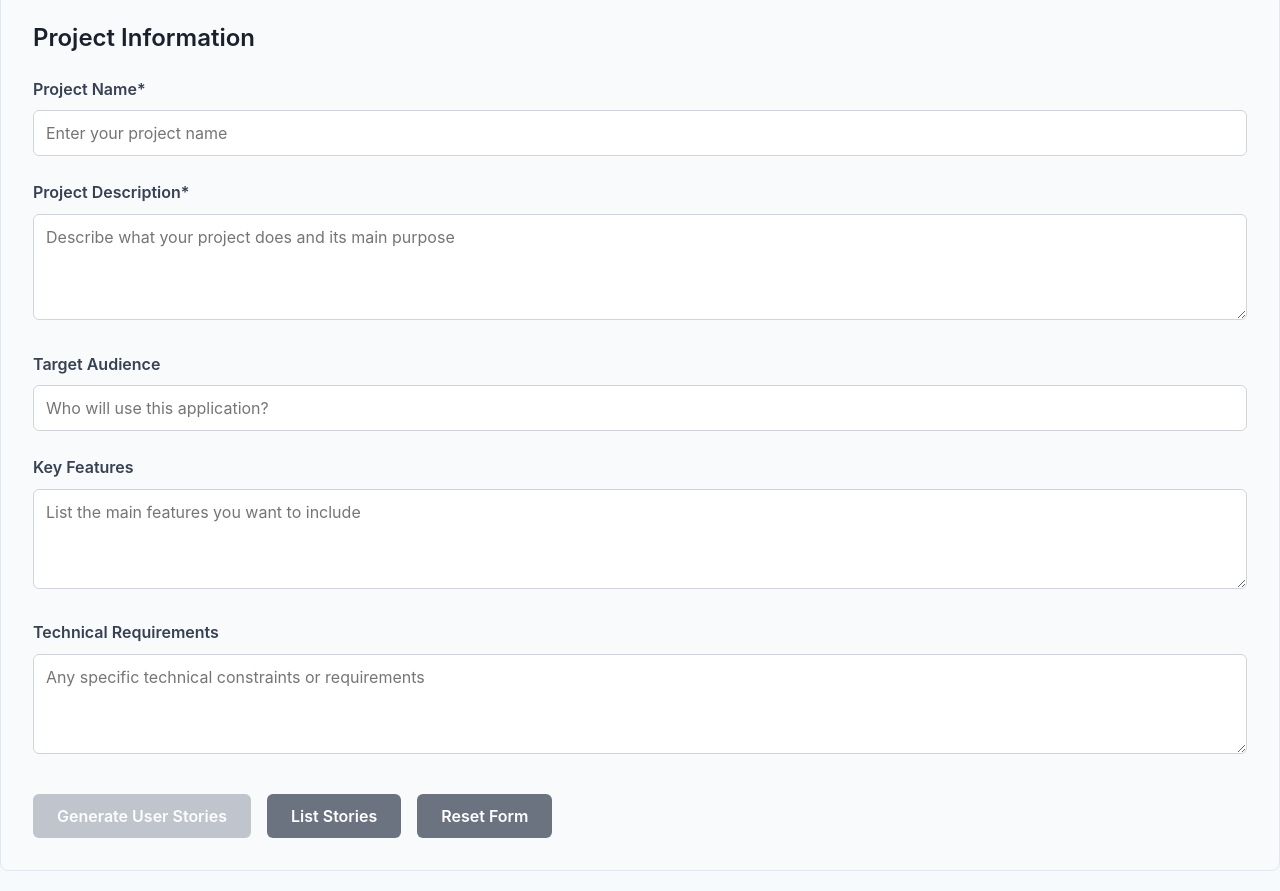
StoryGenerator Component › Form Submission - Error Cases › displays error message when API returns 422 validation error
The width and height of the screenshot is (1280, 891).
Type "Test Project" into the field labelled "Project Name*" at (640, 133), box left=33, top=110, right=1247, bottom=156
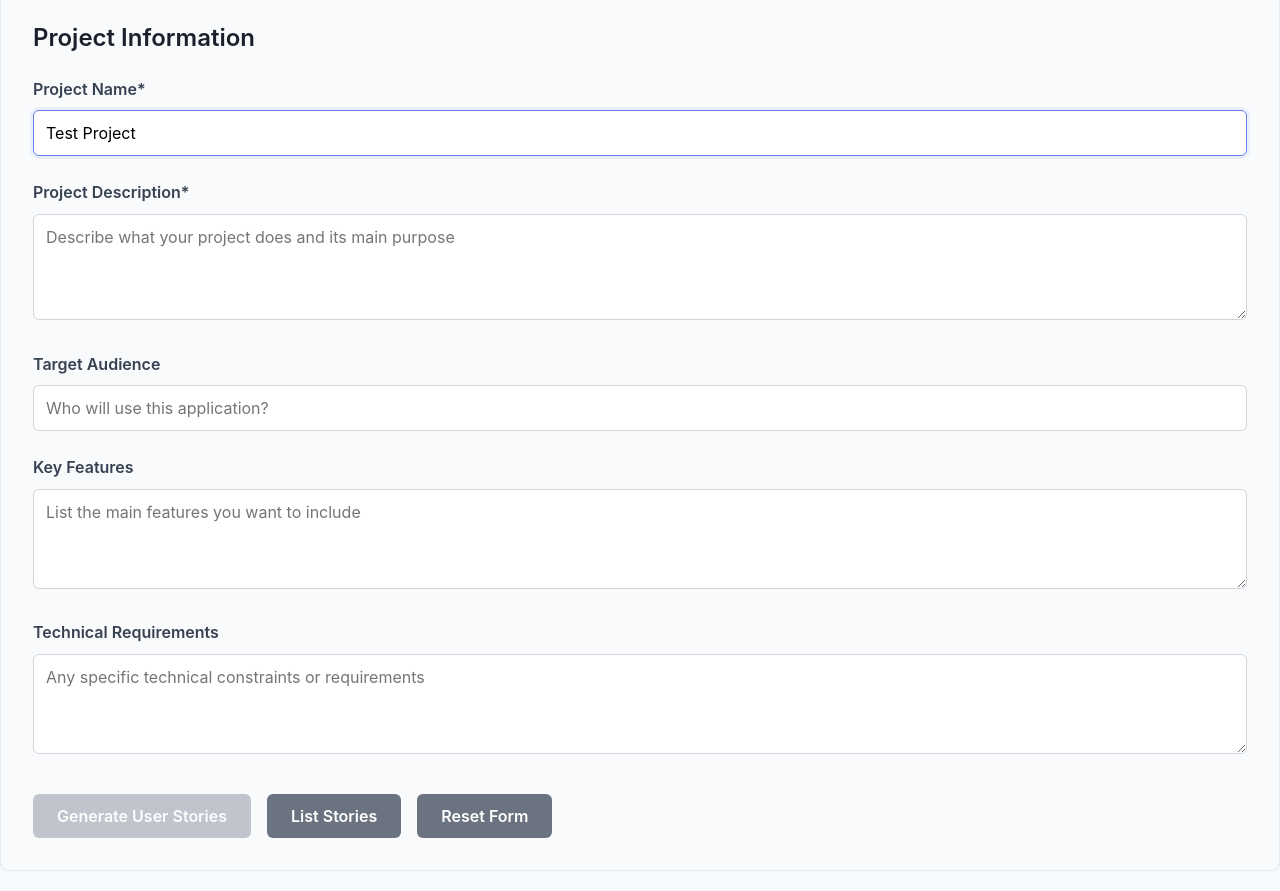
Type "A comprehensive test project for story generation" into the text box labelled "Project Description*" at (640, 267), box left=33, top=214, right=1247, bottom=320
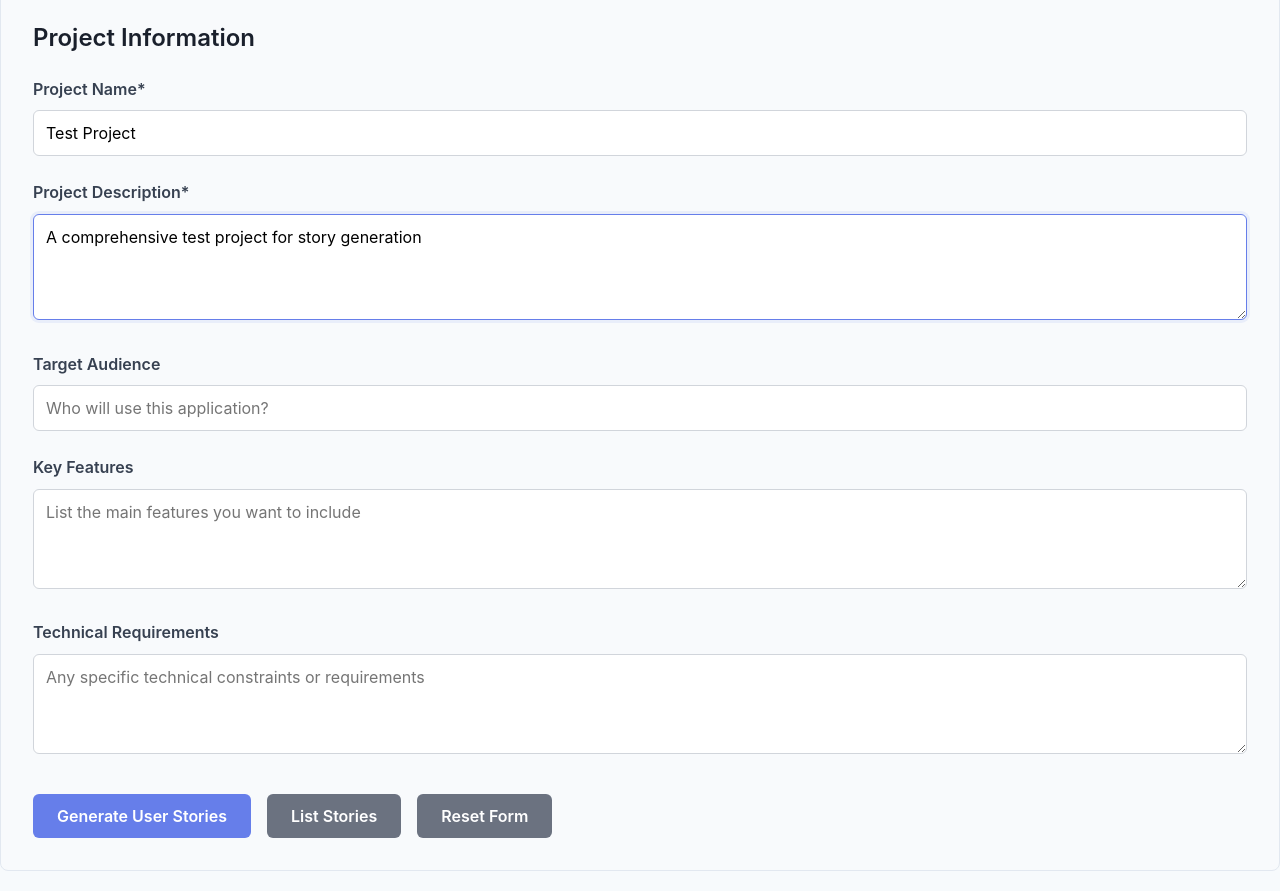
Type "Developers and QA engineers" into the field with id "targetAudience" at (640, 408), box left=33, top=385, right=1247, bottom=431
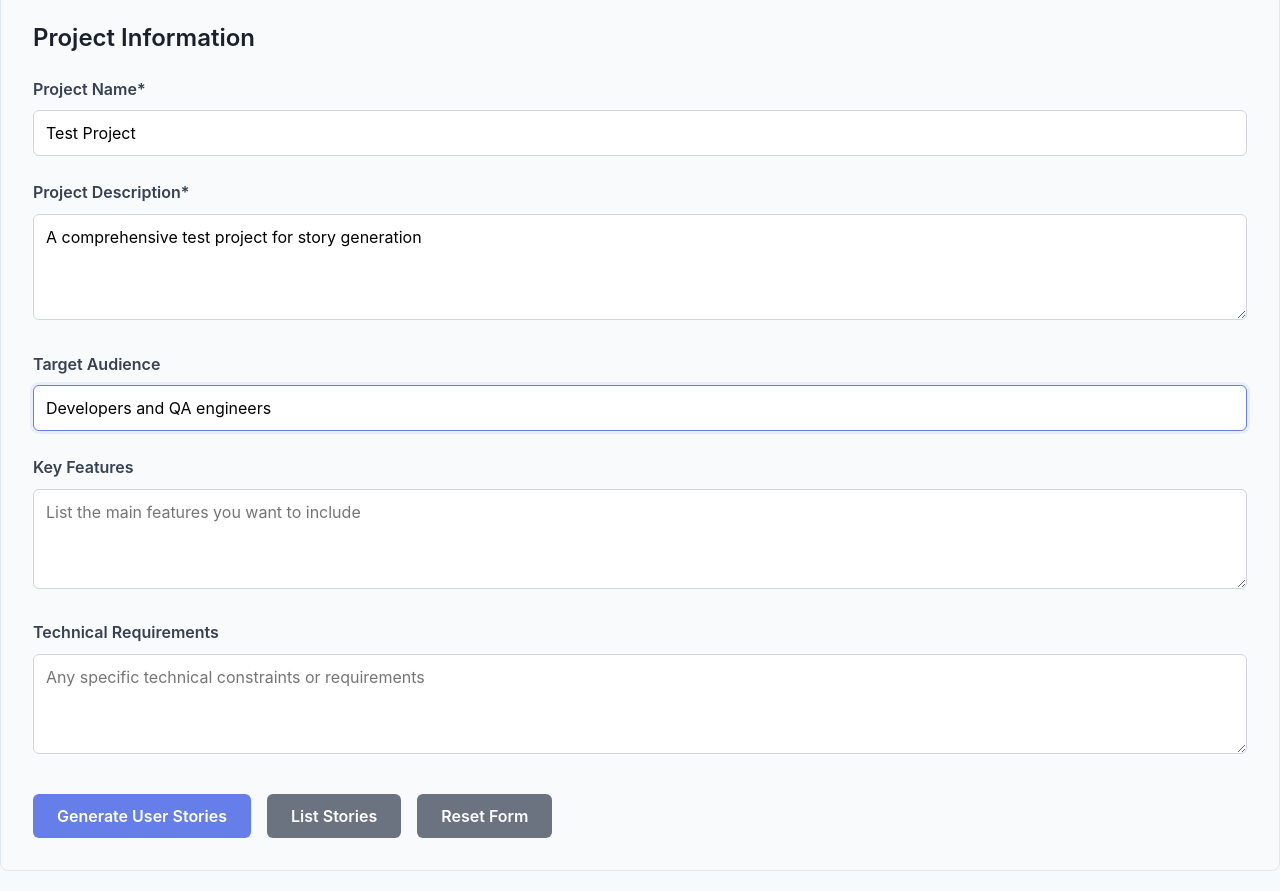
Type "User authentication, Story generation, API integration" into the text box with id "keyFeatures" at (640, 539), box left=33, top=489, right=1247, bottom=589
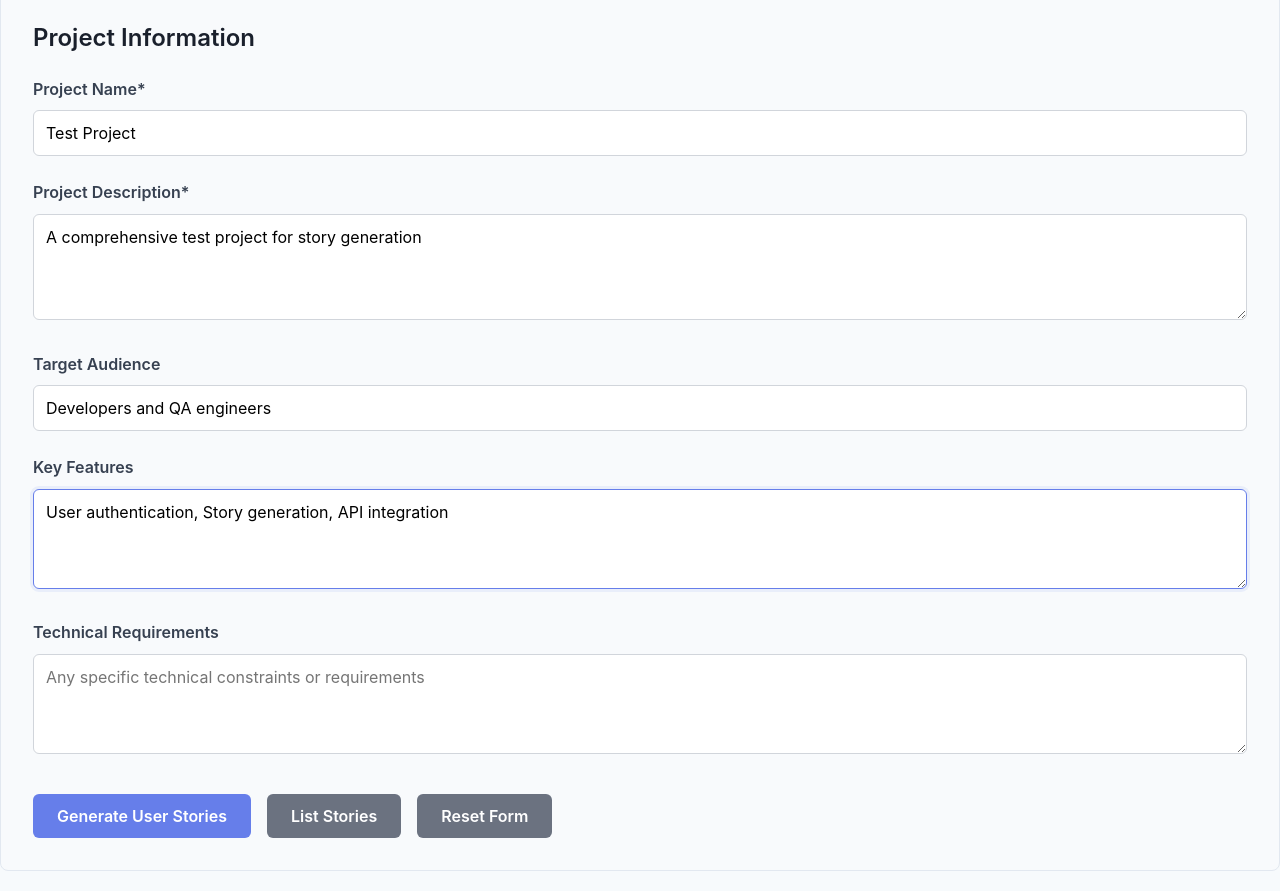
Type "React, FastAPI, PostgreSQL" into the text box with id "technicalRequirements" at (640, 704), box left=33, top=654, right=1247, bottom=754
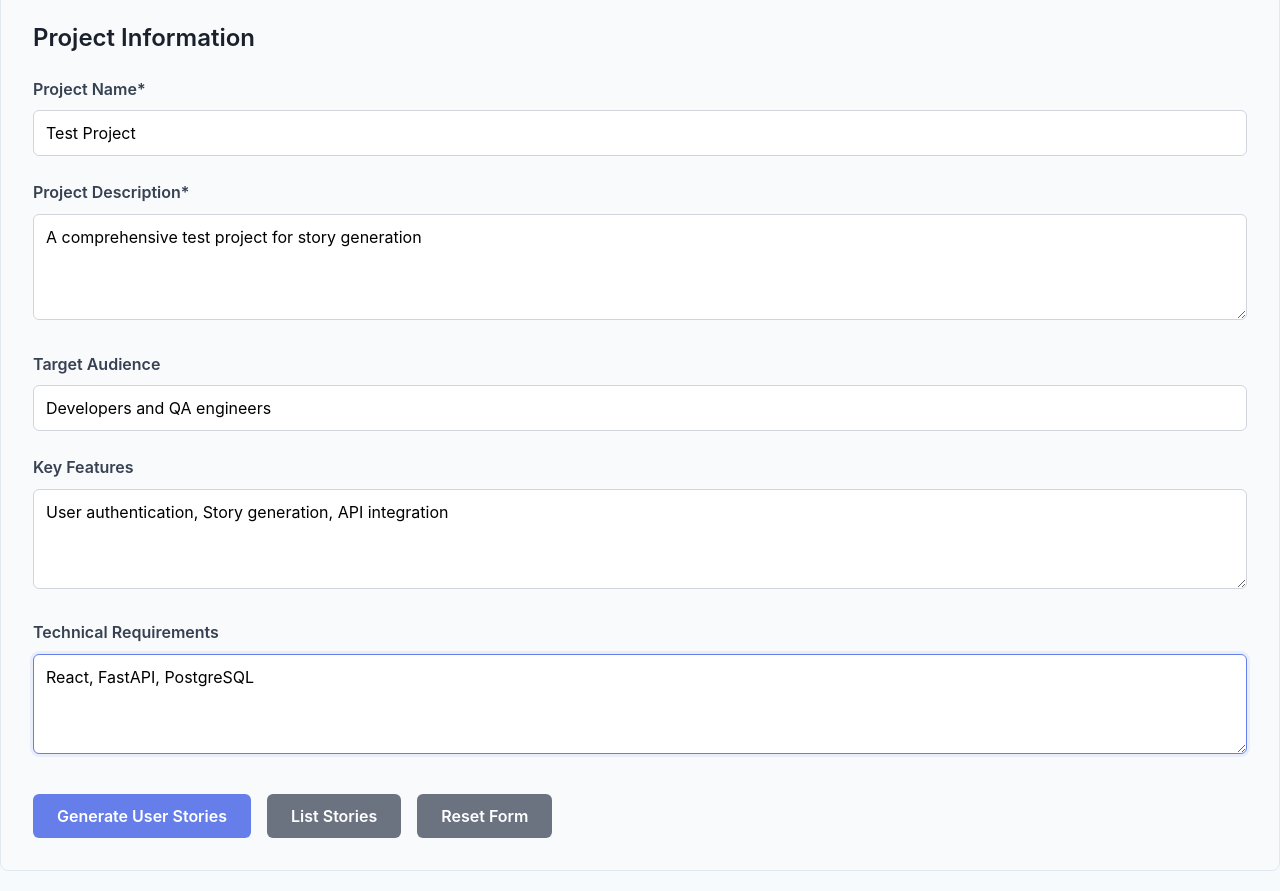
Click the button "Generate User Stories" at (142, 816), box left=33, top=794, right=251, bottom=838
(page scrolled)
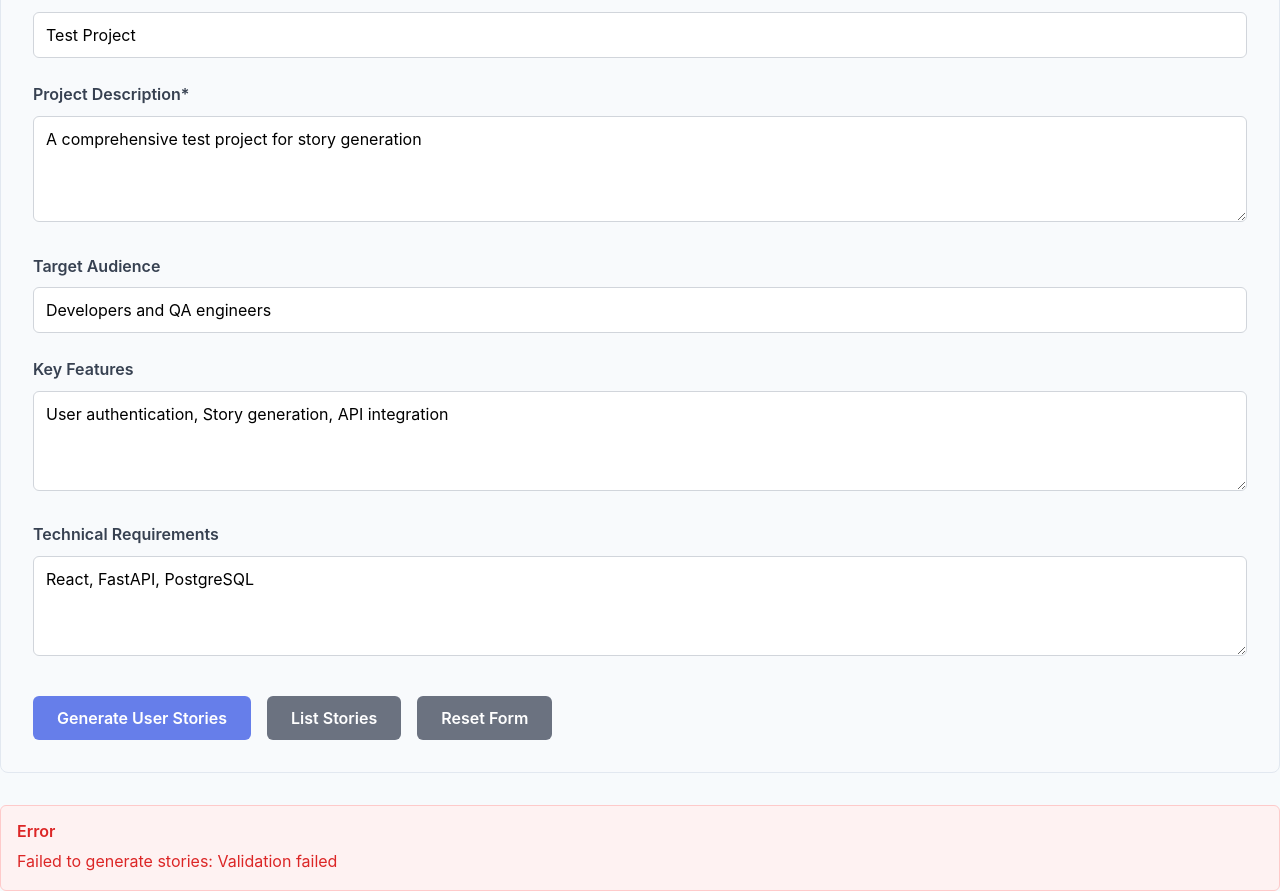
Result: the element with class "error-message" is shown at left=0, top=804, right=1279, bottom=890
Result: the element with class "error-message" shows "Failed to generate stories: Validation failed" at left=17, top=851, right=337, bottom=871
